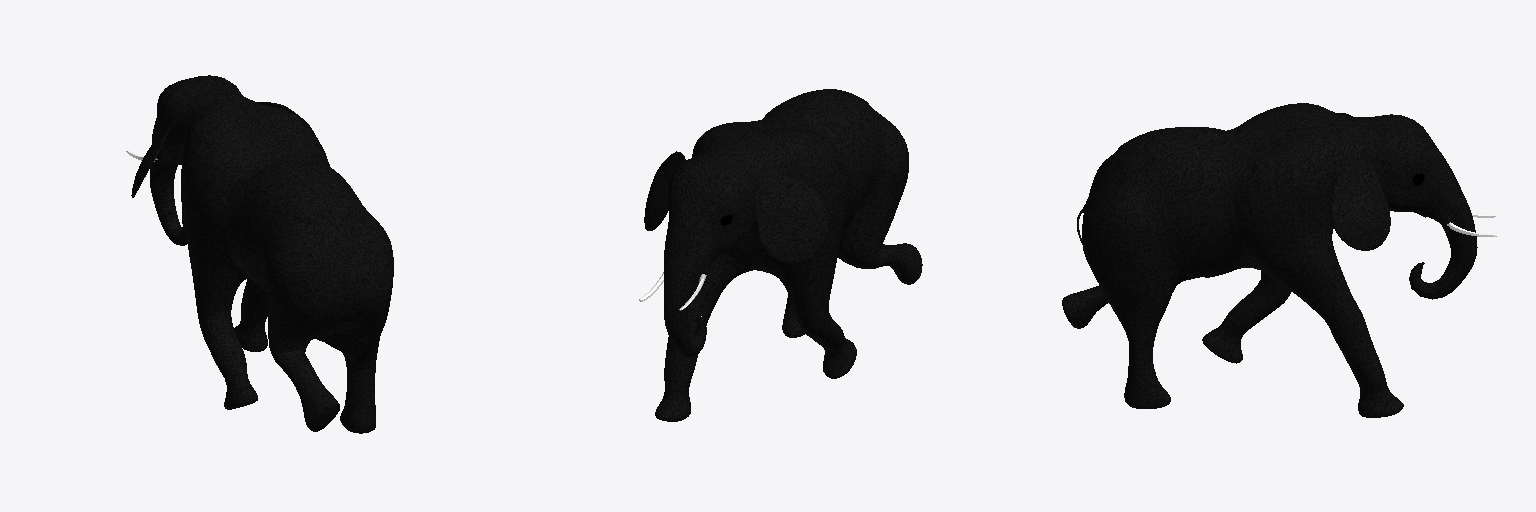
3 renders of one model, left to right at view 1: azimuth 30°, elevation 25°; view 2: azimuth 150°, elevation 25°; view 3: azimuth 270°, elevation 25°, orthographic.
Visible parts, largest first — view 1: Group4 polySurface1; view 2: Group4 polySurface1; view 3: Group4 polySurface1.
Part boxes in pixels (left/top/right/bottom): Group4 polySurface1: left=126, top=75, right=393, bottom=433; Group4 polySurface1: left=639, top=89, right=922, bottom=421; Group4 polySurface1: left=1062, top=103, right=1497, bottom=417.
Bounding box in the file's own units: 25.66 × 37.62 × 54.49.
Materials: 1 (1 with a texture image).